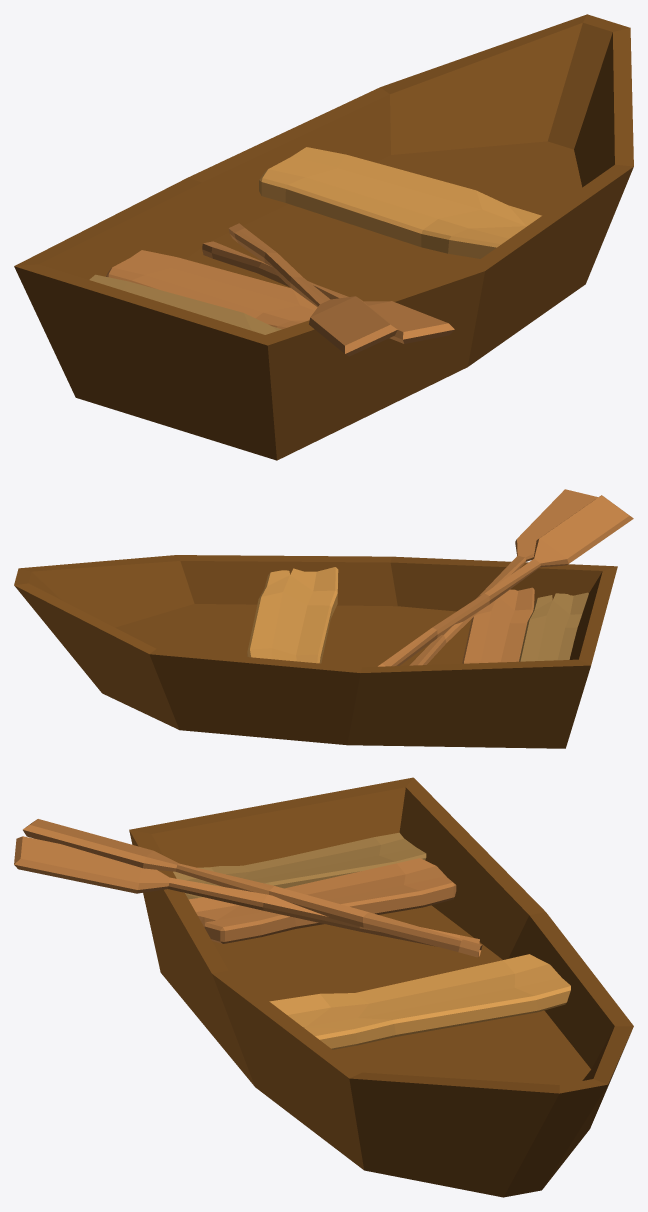
The model's file is Beach_House_Boat_01.fbx.
3 renders of one model, top to bottom at view 1: azimuth 30°, elevation 25°; view 2: azimuth 150°, elevation 25°; view 3: azimuth 270°, elevation 25°, orthographic. The views are drawn at different scales.
Parts seen in each view (by area): view 1: Beach_House_Boat_01; view 2: Beach_House_Boat_01; view 3: Beach_House_Boat_01.
Part boxes in pixels (x1=…): Beach_House_Boat_01: x1=14, y1=14, x2=633, y2=460; Beach_House_Boat_01: x1=14, y1=489, x2=633, y2=748; Beach_House_Boat_01: x1=14, y1=777, x2=633, y2=1197.
Size of the model in its own units: 5.12 by 1.23 by 4.05.
